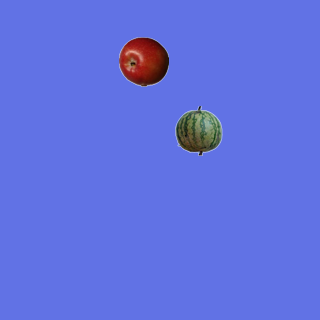Apple Braeburn: (118, 36, 168, 86)
Watermelon: (173, 105, 223, 155)
